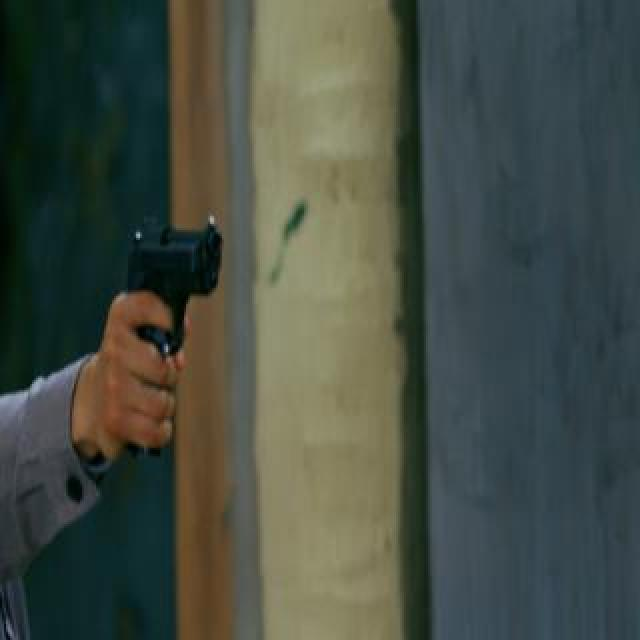Guns: (98, 197, 245, 383)
